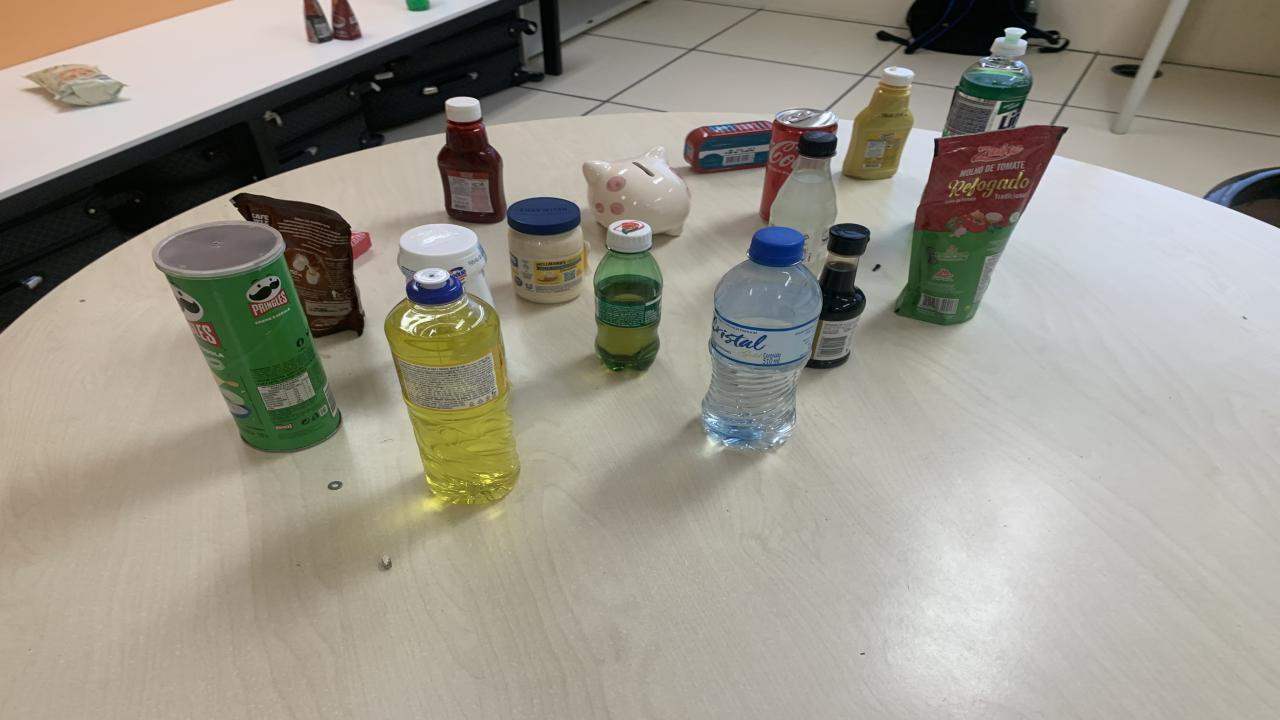Cleaner-Cleanup_Items: (398, 223, 492, 306)
Coffee-Pantry_Items: (230, 193, 365, 338)
Coke-Drinks: (760, 109, 838, 219)
Detergent-Cleanup_Items: (385, 268, 520, 504), (942, 28, 1032, 137), (405, 0, 430, 11)
English_Sauce-Pantry_Items: (808, 223, 870, 369)
Flakes-Snacks: (25, 64, 125, 105)
Guarana-Drinks: (595, 219, 662, 371)
Ketchup-Pantry_Items: (438, 96, 505, 223)
Mayonnaise-Pantry_Items: (508, 197, 588, 304)
Mustard-Pantry_Items: (842, 68, 912, 180)
Pig_Safe-Miscellaneous: (582, 146, 690, 236)
Pringles-Snacks: (152, 221, 340, 452)
Soap-Cleanup_Items: (350, 232, 370, 259)
Soda-Drinks: (770, 129, 838, 276)
Tomato_Sauce-Pantry_Items: (895, 126, 1068, 324), (332, 0, 362, 41), (305, 0, 332, 43)
Tuna_Can-Pantry_Items: (682, 120, 772, 172)
Water_Bottle-Drinks: (702, 227, 822, 450)
